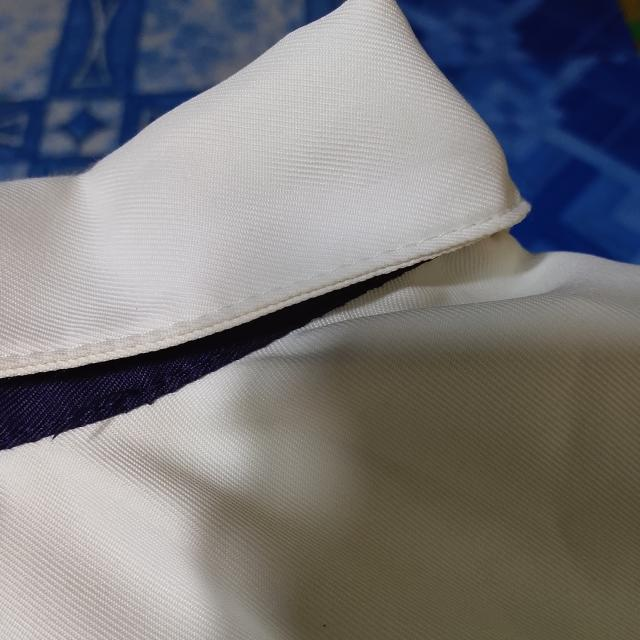education_male_uniform: (11, 14, 606, 535)
